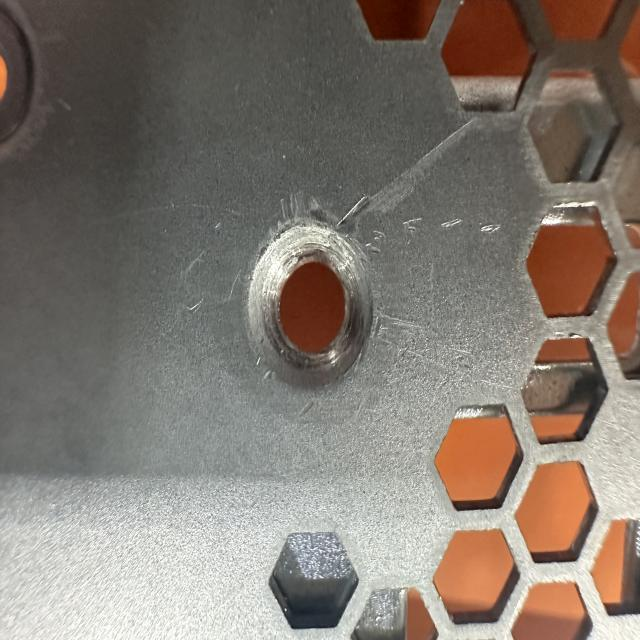Missing screw: (228, 202, 392, 420)
